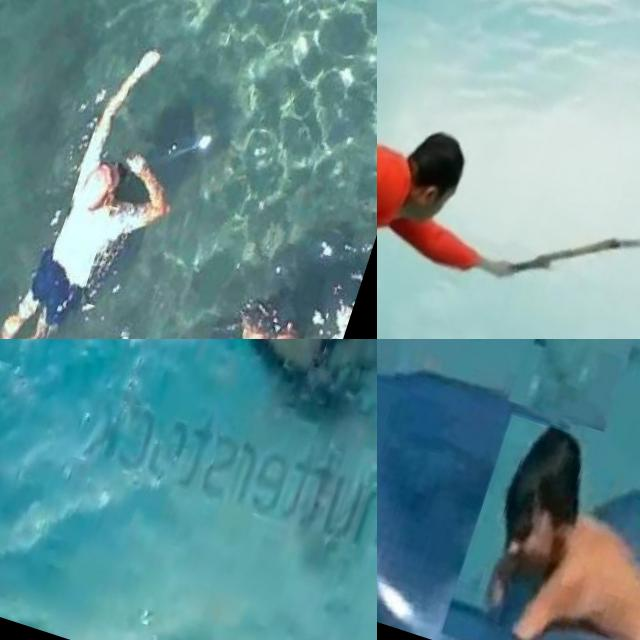drowning: (116, 339, 377, 493), (507, 339, 632, 433)
out of water: (377, 47, 541, 339)
swimming: (0, 44, 225, 339), (438, 412, 640, 640), (150, 249, 352, 339)
